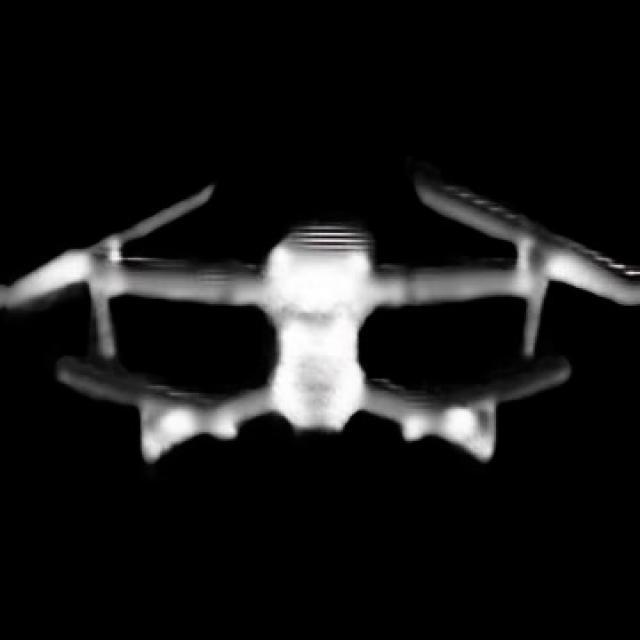drone: (0, 127, 640, 510)
